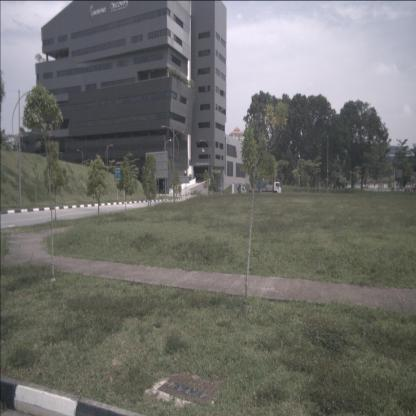vehicle-truck: (249, 178, 282, 196), (232, 182, 246, 196)
